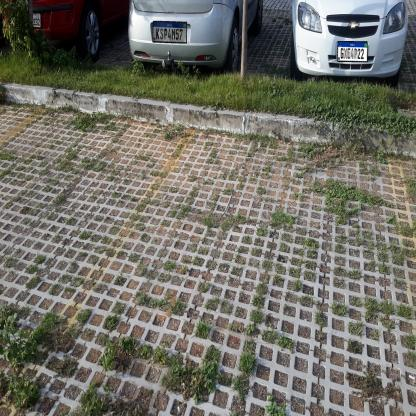PlacaM: (153, 21, 187, 43), (338, 41, 368, 62)
